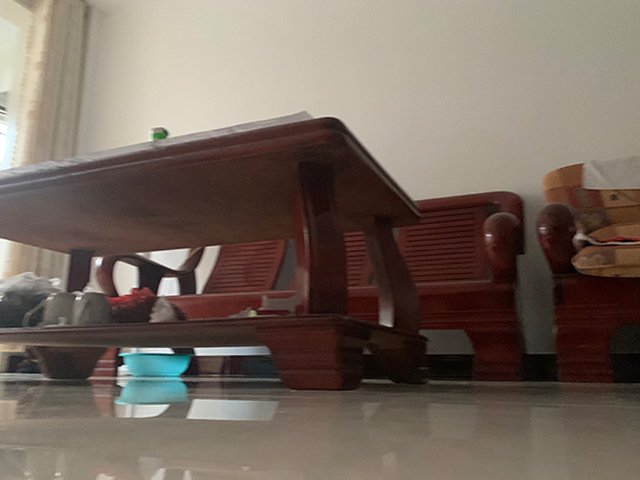curtain: (14, 3, 86, 305)
sofa: (404, 190, 530, 382), (535, 156, 640, 383)
table: (1, 117, 432, 391)
